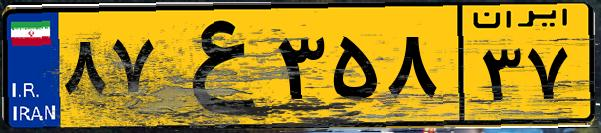3: (270, 28, 330, 110), (475, 38, 525, 113)
5: (330, 28, 385, 110)
7: (525, 38, 570, 115), (110, 28, 158, 98)
8: (385, 28, 445, 110), (57, 26, 110, 100)
ع: (158, 12, 270, 120)
